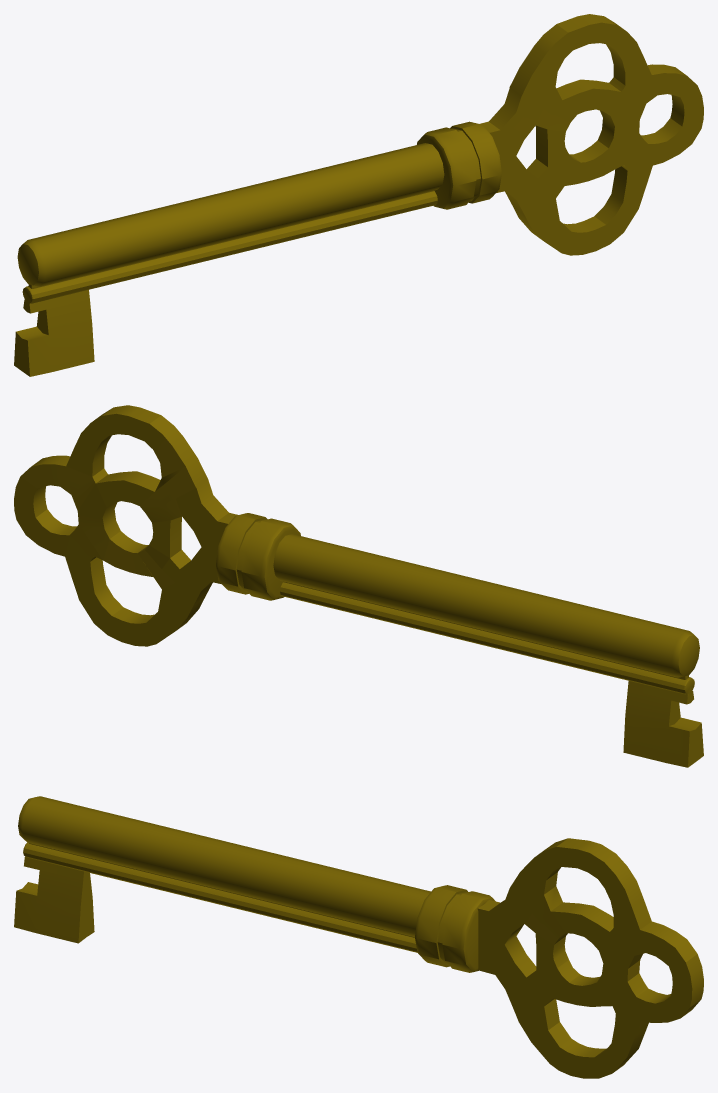
File: Keys.fbx
3 views of the same model, one above another, from view 1: azimuth 30°, elevation 25°; view 2: azimuth 150°, elevation 25°; view 3: azimuth 330°, elevation 25° (orthographic).
Visible parts, largest first — view 1: pCylinder4; view 2: pCylinder4; view 3: pCylinder4.
Part boxes in pixels (x1,y1,x2,y2): pCylinder4: (14, 14, 703, 376); pCylinder4: (14, 405, 703, 767); pCylinder4: (14, 796, 703, 1078).
Bounding box in the file's own units: 9.68 × 3.12 × 0.9951.
